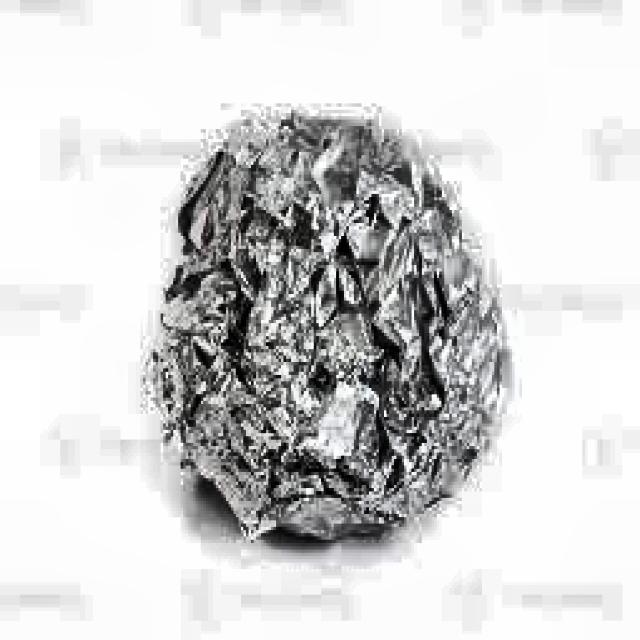Foil: (159, 104, 527, 562)
